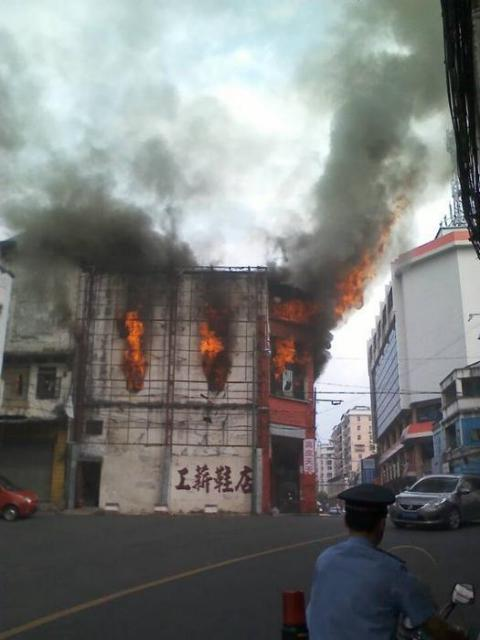fire: (126, 308, 140, 376), (274, 336, 296, 372), (199, 320, 221, 352), (339, 272, 357, 310), (275, 298, 303, 318)
